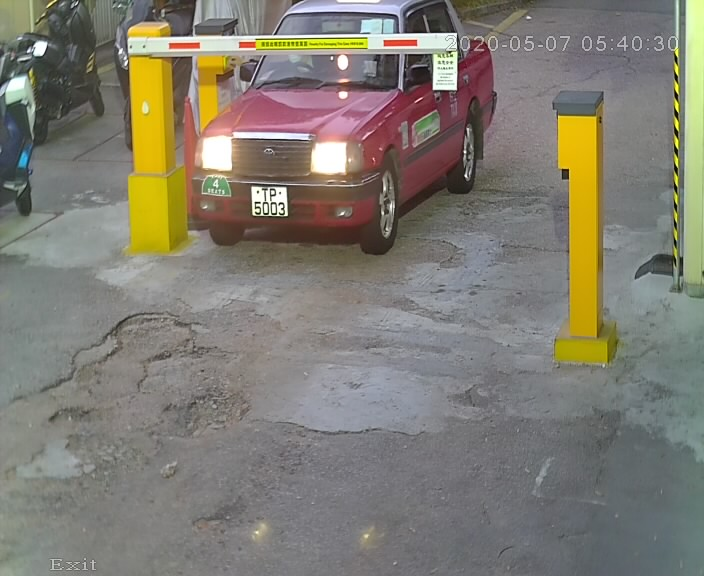taxi: (161, 2, 520, 275)
taxi_mark: (196, 171, 241, 207)
